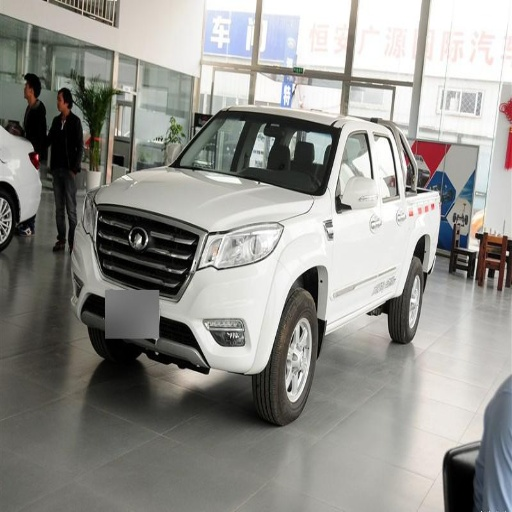front_bumper: (72, 205, 290, 371)
front_glass: (171, 112, 335, 195)
front_left_door: (331, 127, 380, 319)
trunk: (409, 190, 442, 253)
